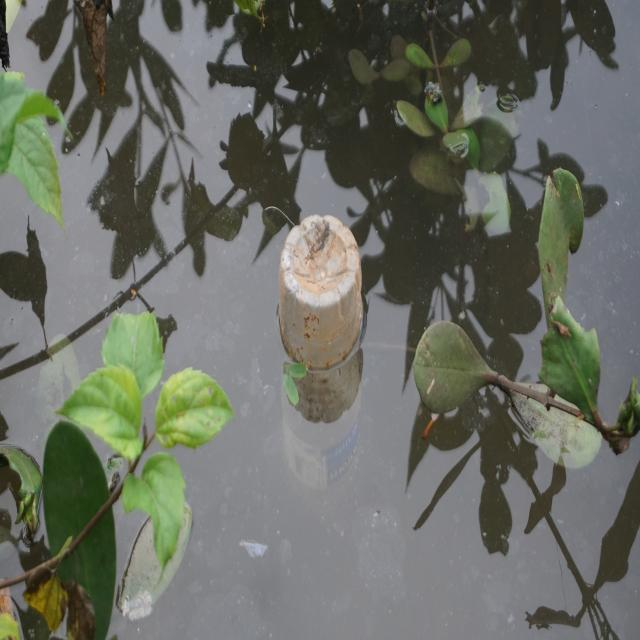Botol Plastik: (273, 199, 365, 374)
